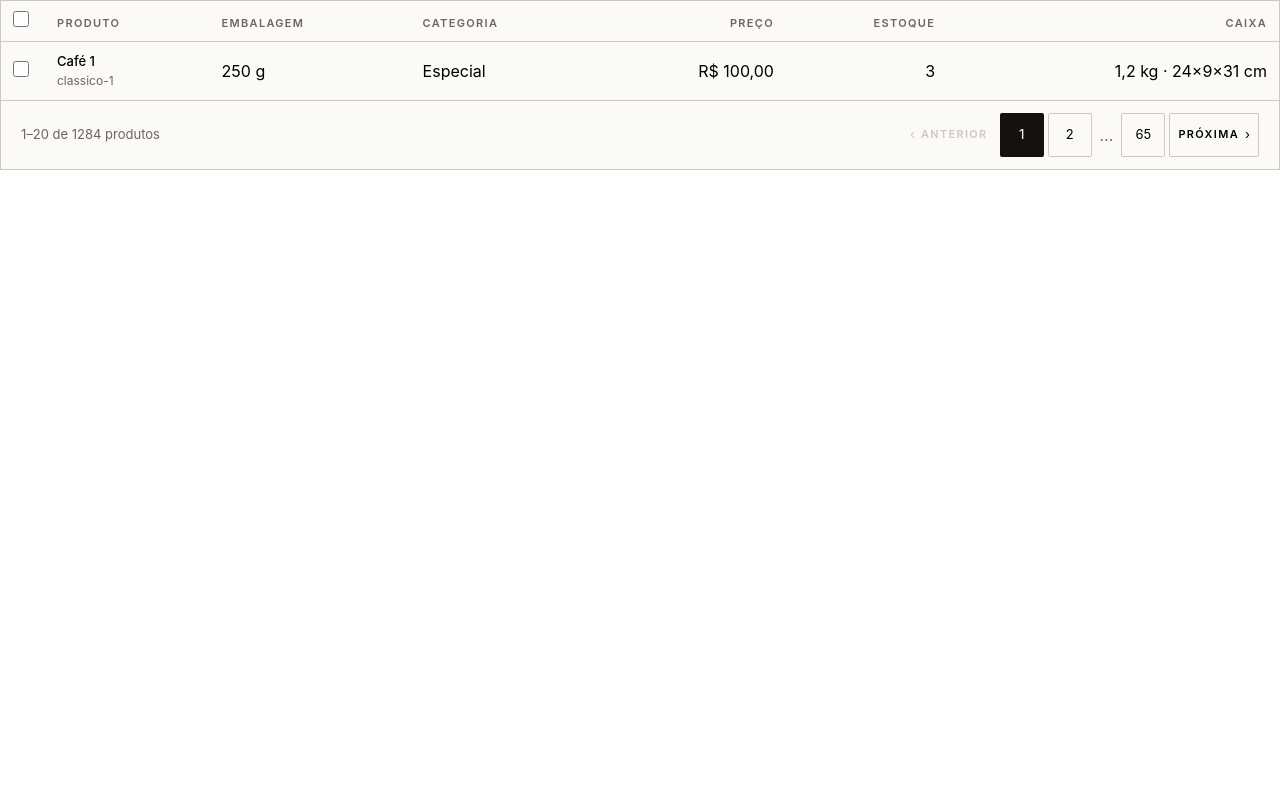
Test: o lote de estoque › subtrair mais do que existe trava em zero, sem recusar a linha
Click the checkbox named "Marcar Café 1" at [21, 69], box [13, 61, 29, 77]
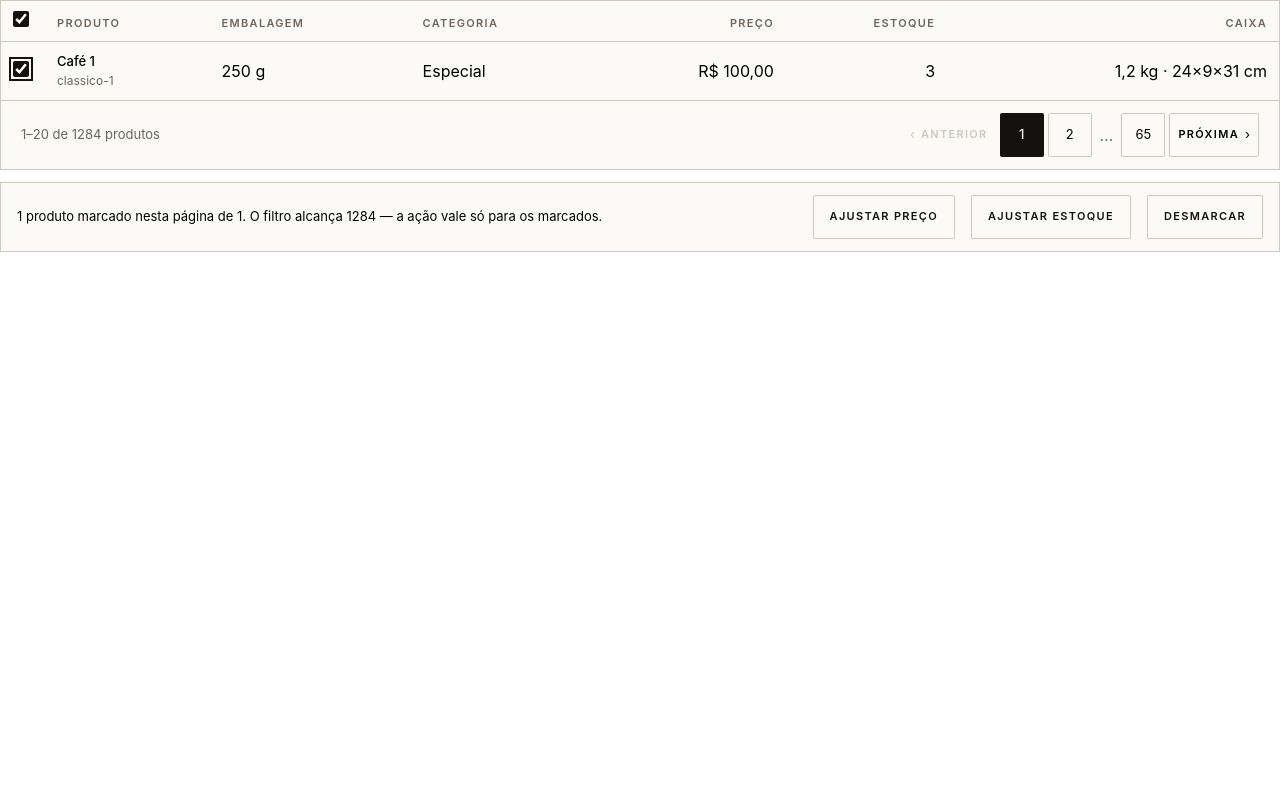
Click the button "Ajustar estoque" at [1051, 216], box [971, 194, 1131, 238]
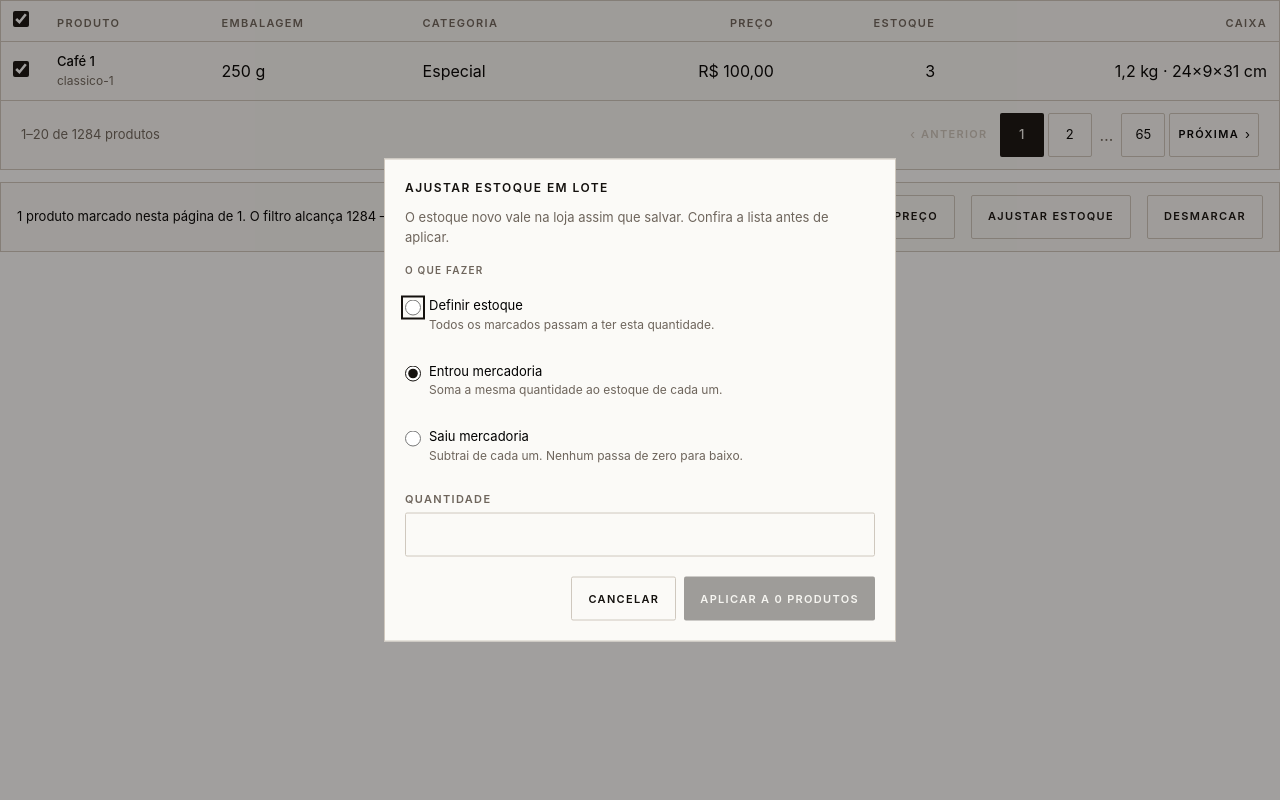
Click the radio button labelled "Saiu mercadoria" at [413, 438], box [405, 430, 421, 446]
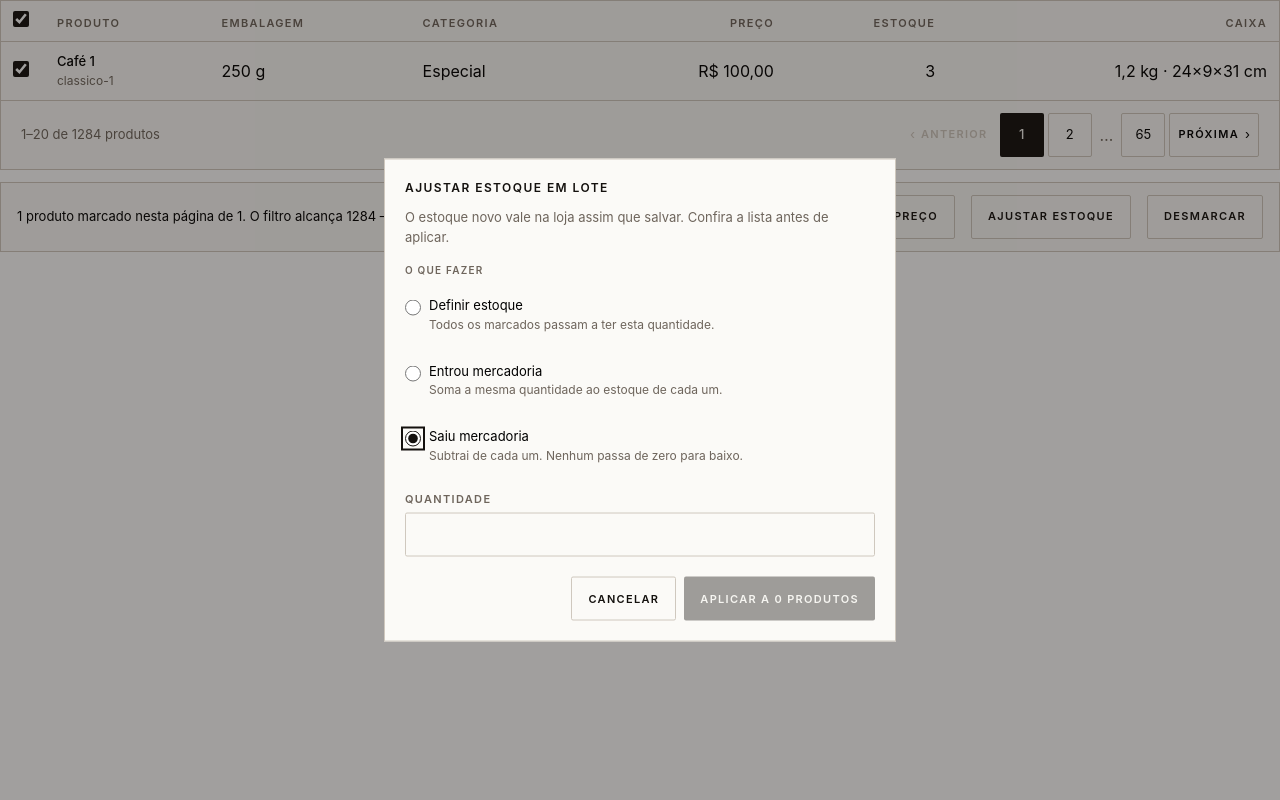
Type "5" into the field labelled "Quantidade" at [640, 534], box [405, 512, 875, 556]
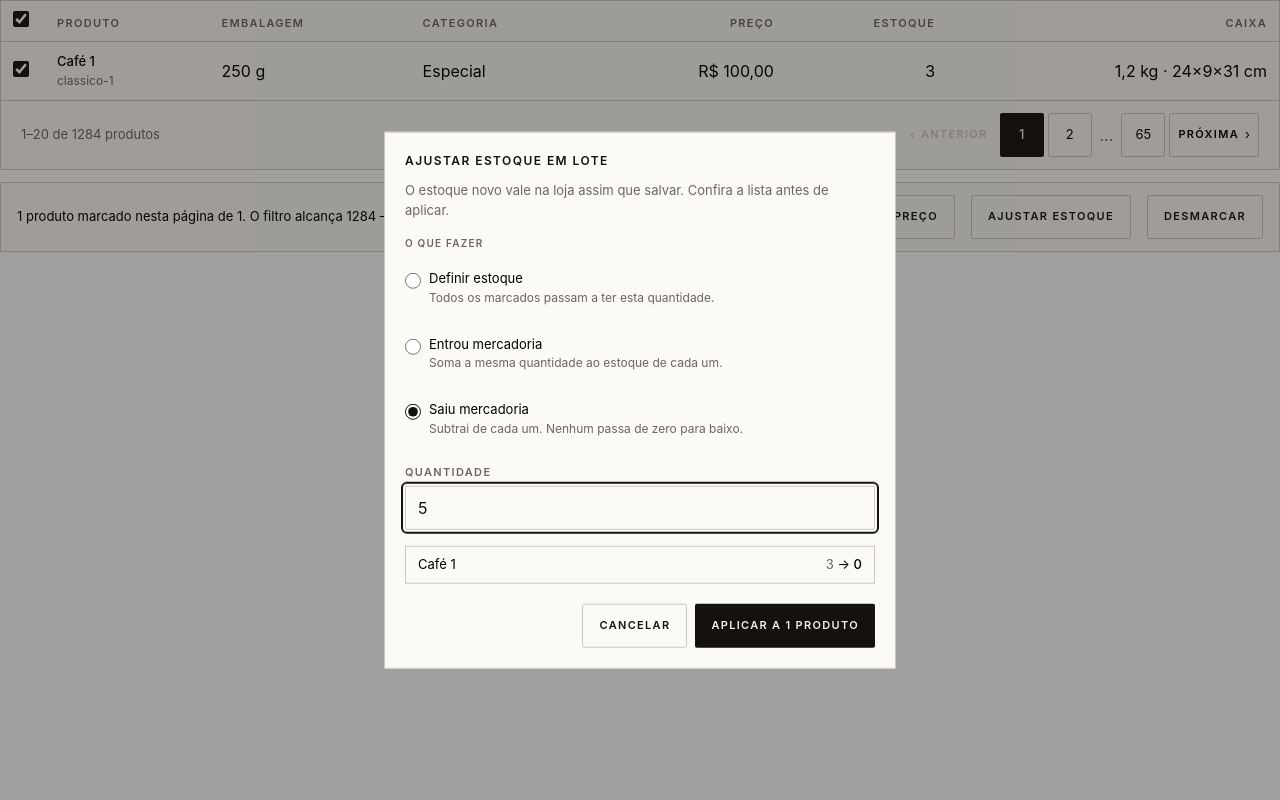
Expected: the button "Aplicar a 1 produto" is enabled, [695, 603, 875, 647]
